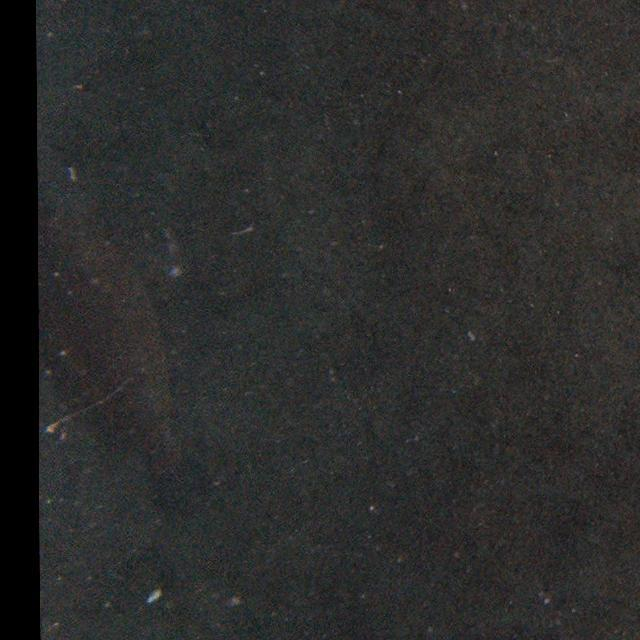flatfish: (32, 172, 226, 514)
